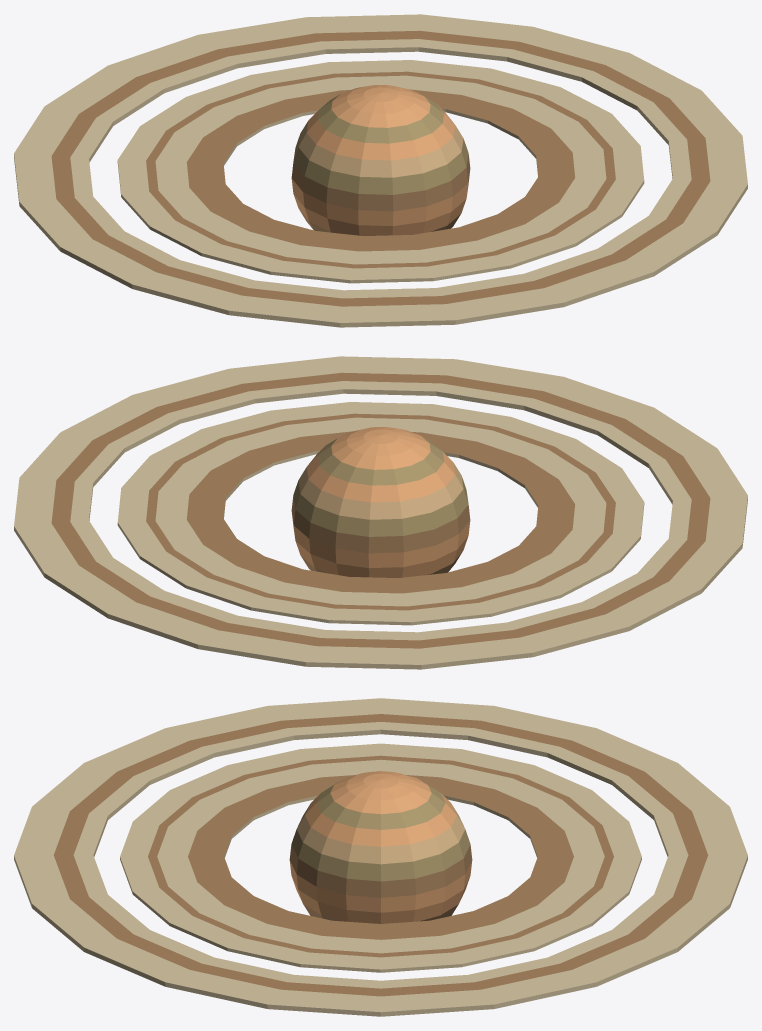
File: Saturn.fbx
3 views of the same model, one above another, from view 1: azimuth 30°, elevation 25°; view 2: azimuth 150°, elevation 25°; view 3: azimuth 270°, elevation 25° (orthographic).
Parts seen in each view (by area): view 1: Circle.002, Circle.001, Cube; view 2: Circle.002, Circle.001, Cube; view 3: Circle.002, Circle.001, Cube.
Part boxes in pixels (x1,y1,x2,y2): Circle.002: (14, 14, 747, 327); Circle.001: (117, 60, 644, 283); Cube: (291, 85, 470, 235); Circle.002: (14, 356, 747, 669); Circle.001: (117, 402, 644, 625); Cube: (291, 427, 470, 577); Circle.002: (14, 698, 747, 1016); Circle.001: (120, 743, 641, 972); Cube: (289, 771, 472, 923).
Size of the model in its own units: 2593 by 618 by 2561.
